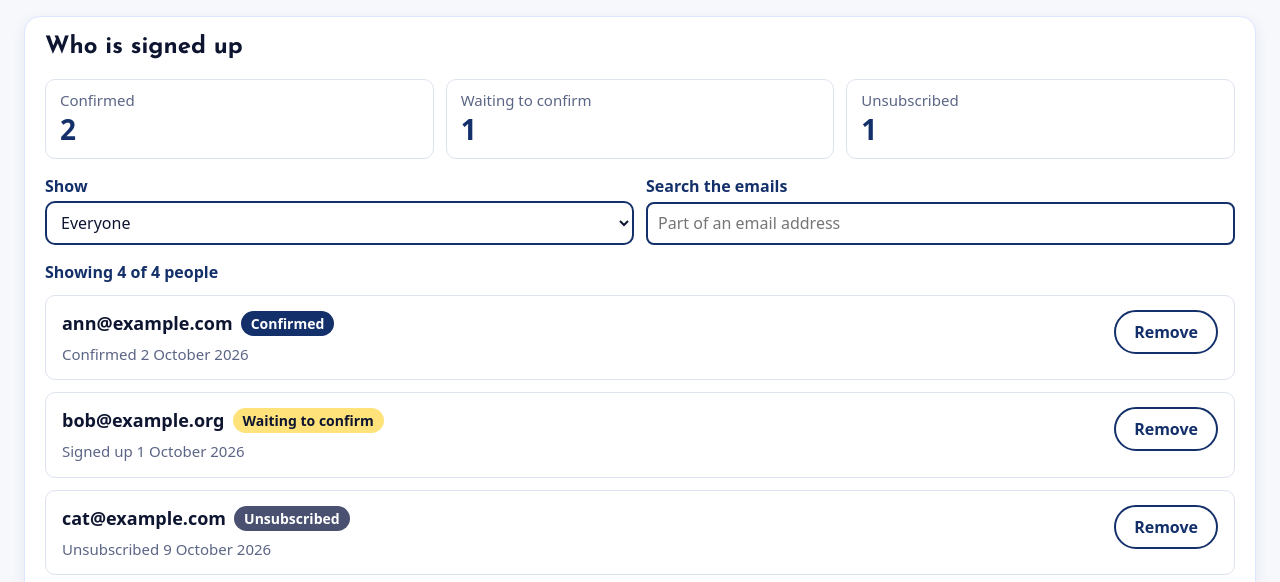
Test: who is signed up › narrows by status and by search, and says so when nobody matches
(page scrolled)
expect the text "Showing 4 of 4 people" is shown: met, box top-left (45, 261), bottom-right (218, 283)
Select "Confirmed" in the dropdown labelled "Show": (340, 223) top-left (45, 201), bottom-right (634, 245)
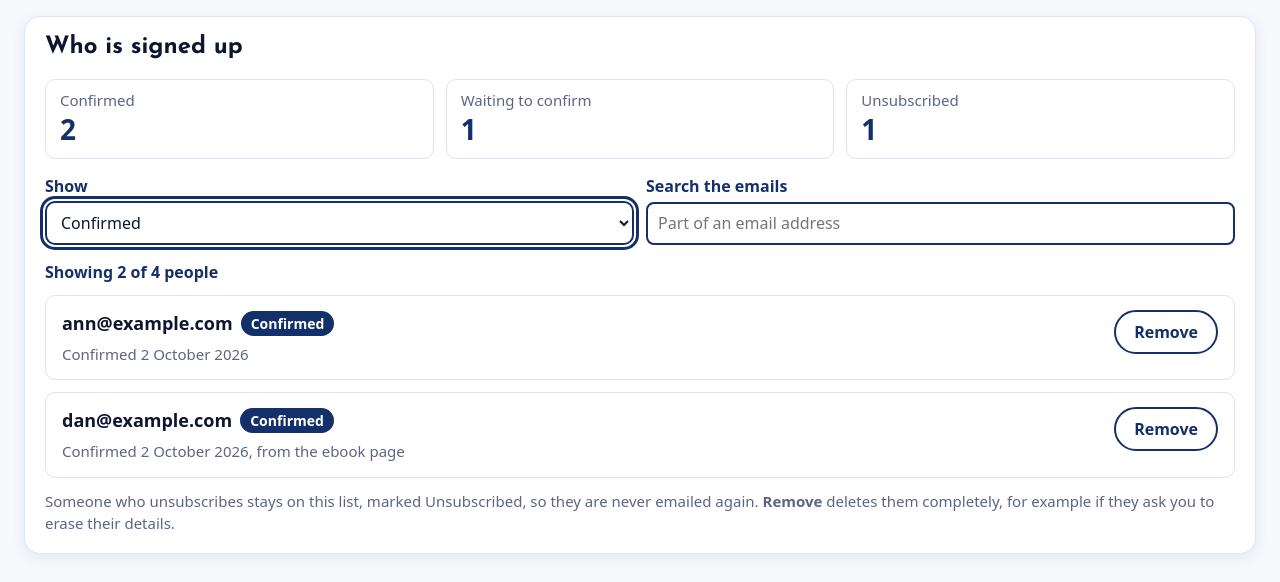
expect the text "Showing 2 of 4 people" is shown: met, box top-left (45, 261), bottom-right (218, 283)
expect the text "bob@example.org" is gone: met
In the search field labelled "Search the emails": (940, 223) top-left (646, 202), bottom-right (1235, 245), type "DAN"
(page scrolled)
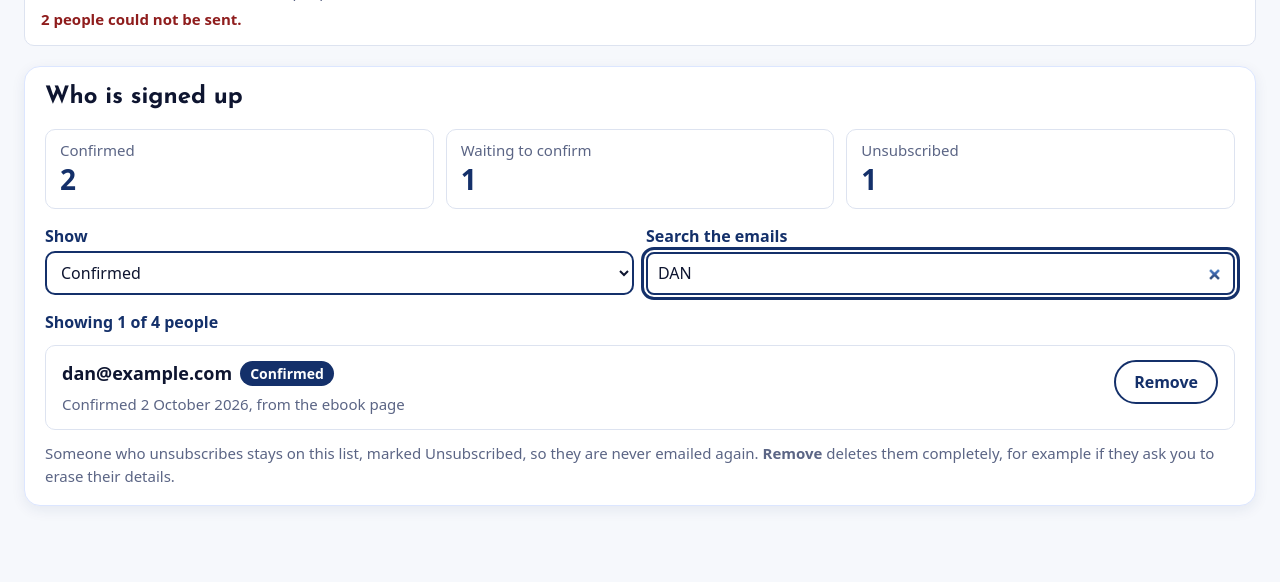
expect the text "Showing 1 of 4 people" is shown: met, box top-left (45, 311), bottom-right (218, 333)
Clear the search field labelled "Search the emails": (940, 273) top-left (646, 252), bottom-right (1235, 295)
(page scrolled)
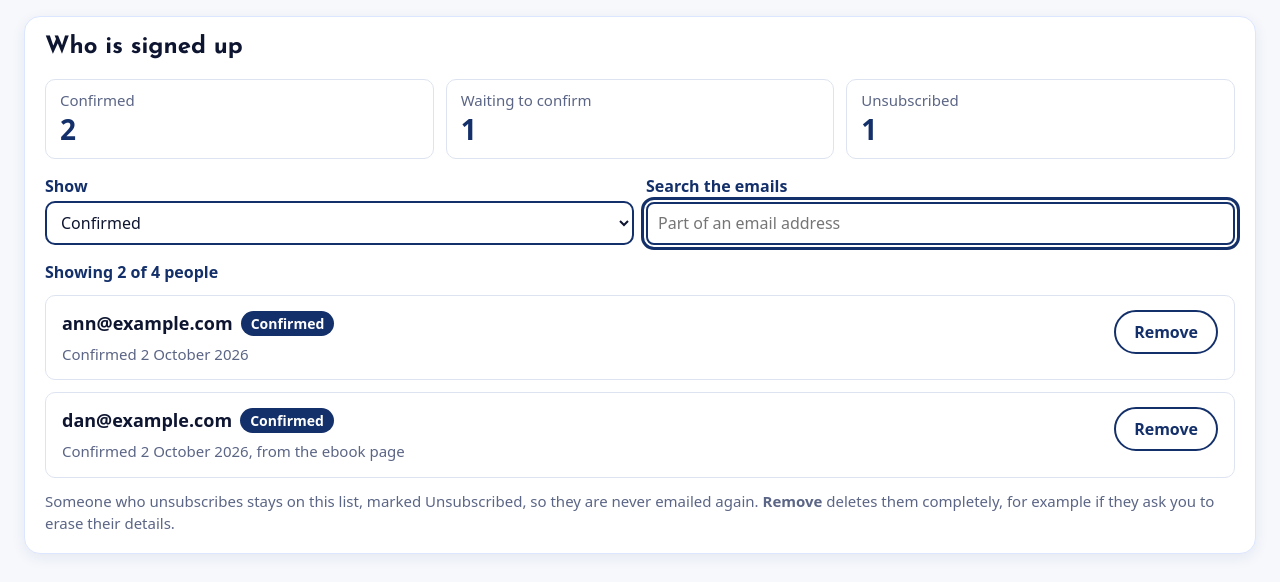
In the search field labelled "Search the emails": (940, 223) top-left (646, 202), bottom-right (1235, 245), type "zzz"
(page scrolled)
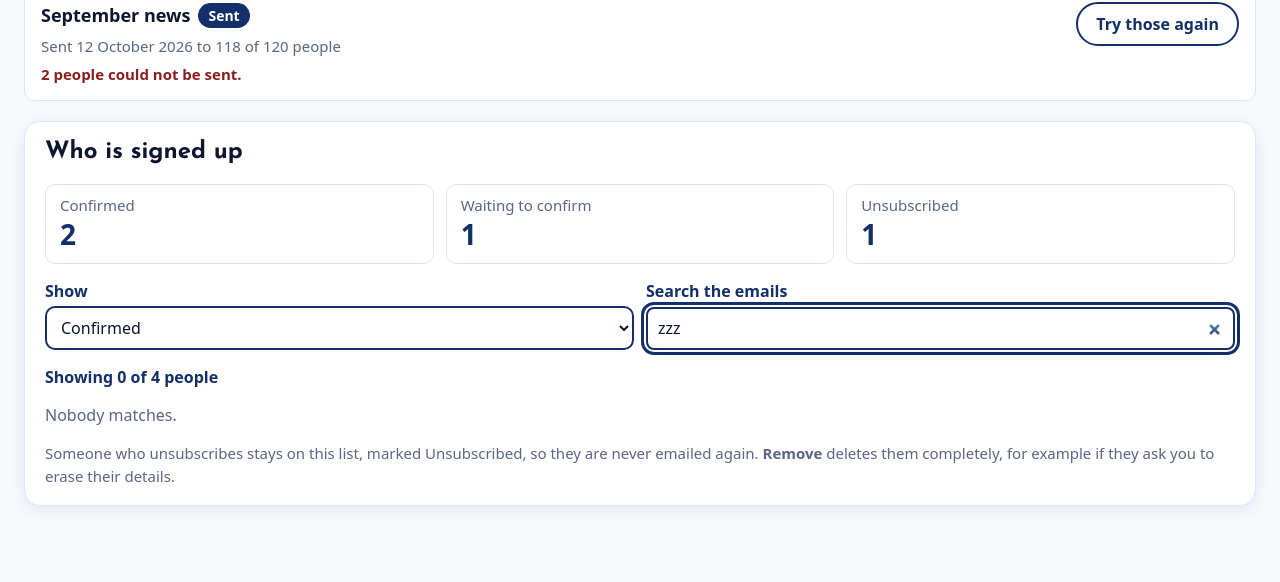
expect the text "Nobody matches." is shown: met, box top-left (45, 404), bottom-right (177, 426)
